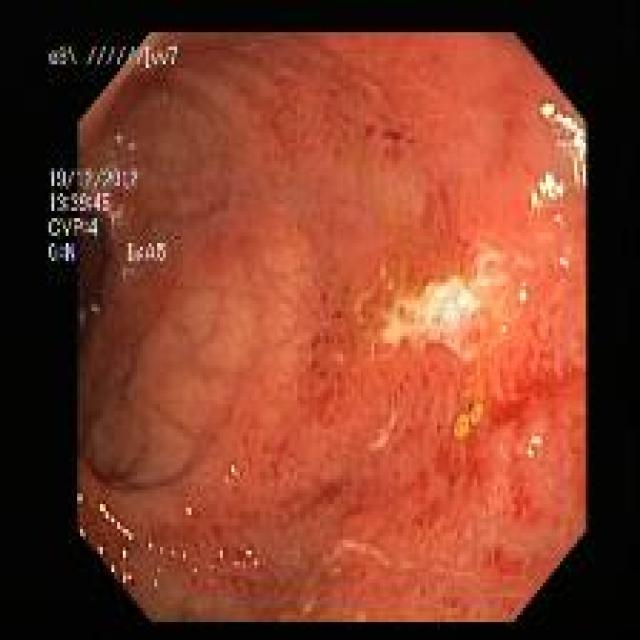ulcerative-colitis: (54, 33, 586, 623)
